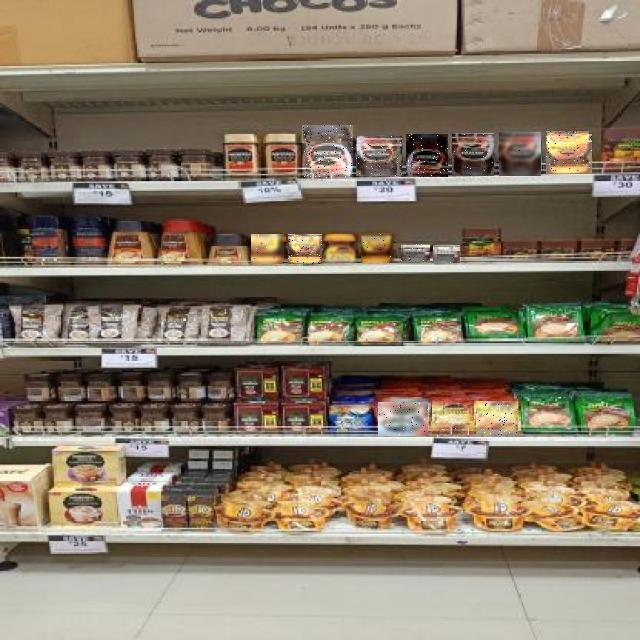Coffee: (302, 125, 353, 178), (546, 131, 592, 174), (499, 132, 541, 176), (356, 136, 402, 176), (452, 133, 494, 176), (406, 134, 448, 177), (378, 402, 428, 436), (432, 400, 474, 435), (476, 402, 518, 436), (322, 234, 358, 263), (289, 234, 323, 264), (252, 234, 286, 264), (362, 234, 396, 263), (434, 245, 464, 263), (401, 244, 430, 262)
